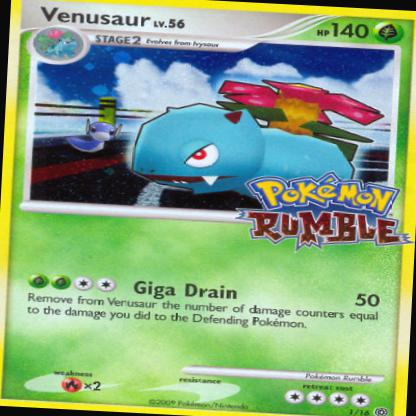Venusaur: (121, 62, 391, 206)
